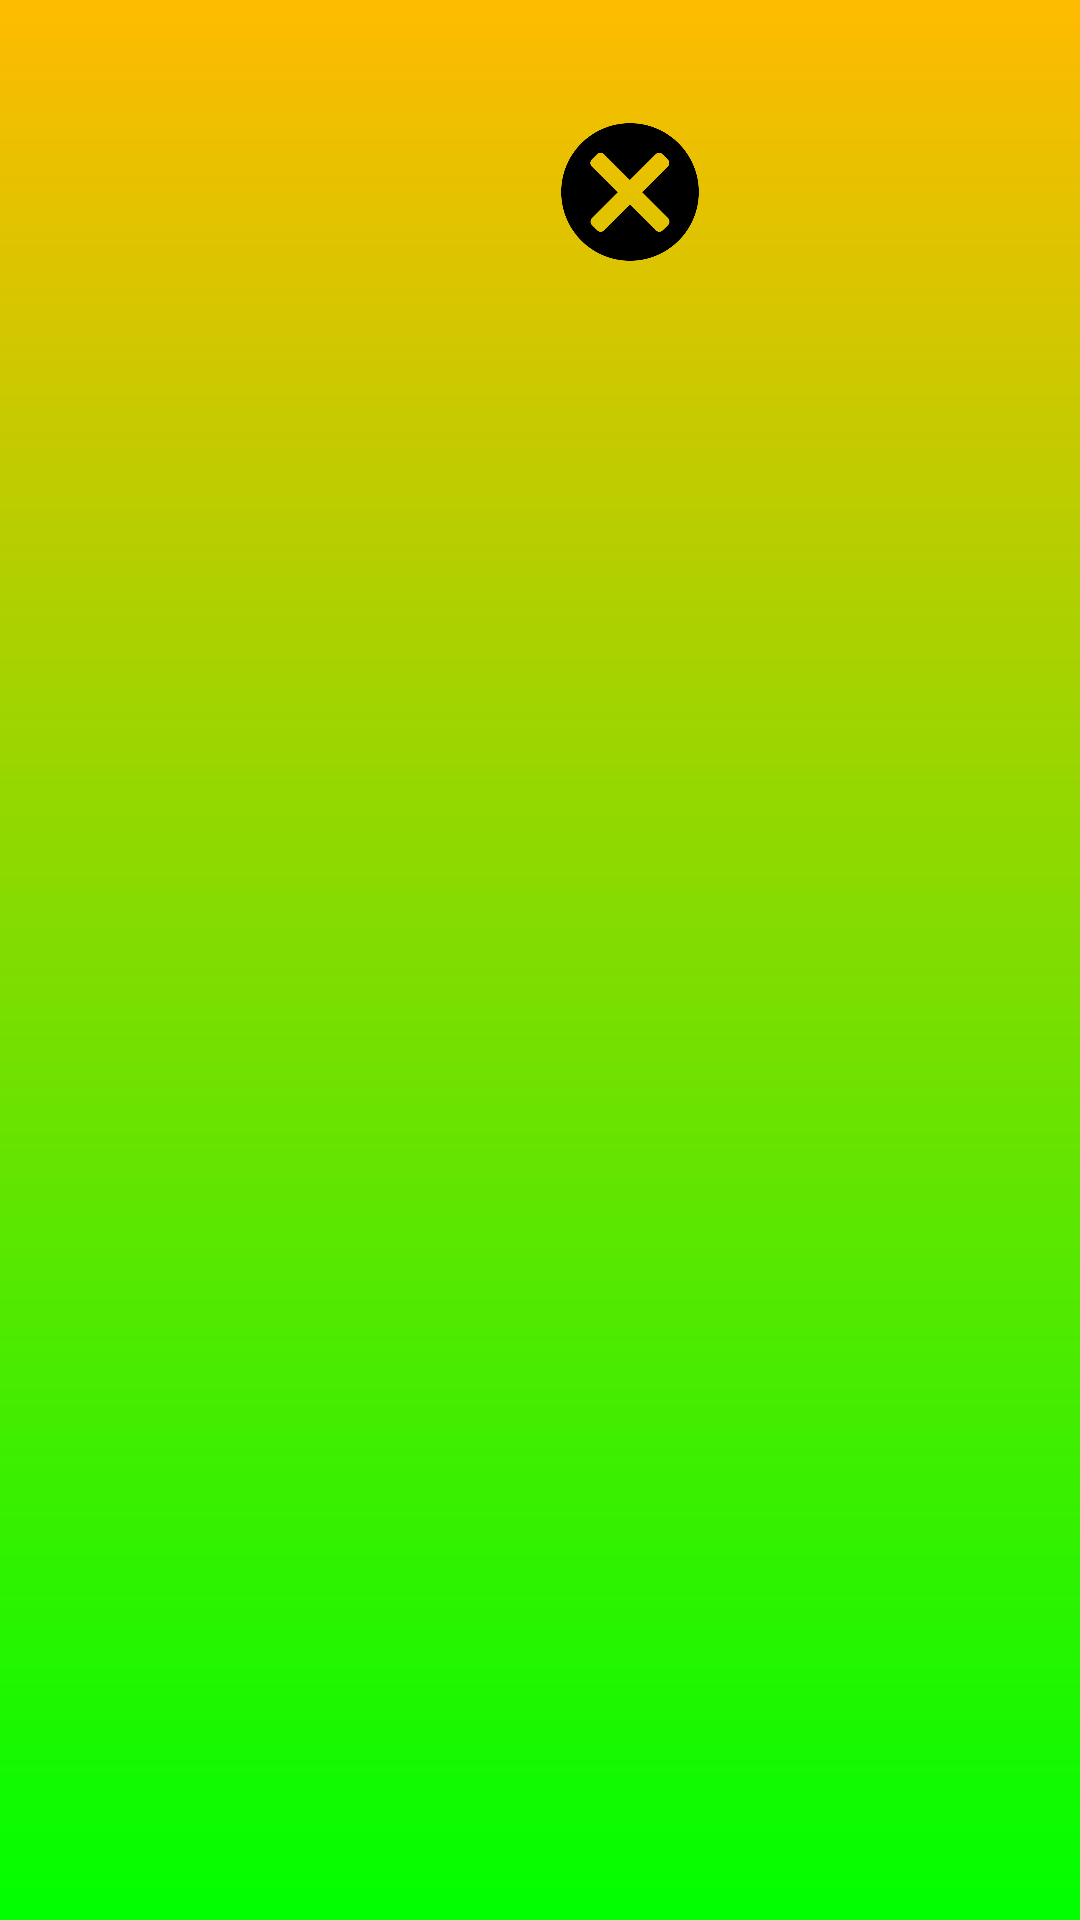

Screen size 1080×1920. Icon name, then its center in pixels as (x,y):
close: (630,192)
